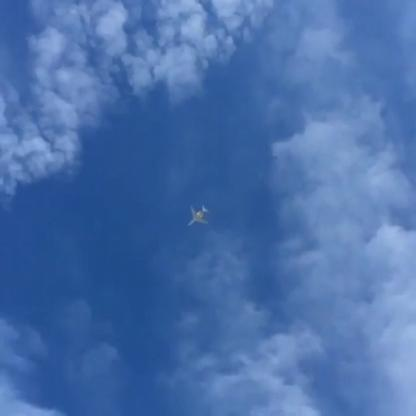CIV_Plane: (188, 203, 210, 226)
